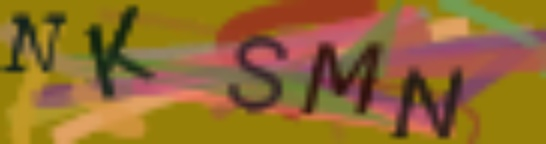K: (82, 3, 159, 99)
M: (298, 39, 388, 120)
N: (388, 63, 466, 142), (1, 11, 71, 77)
S: (223, 34, 290, 115)
